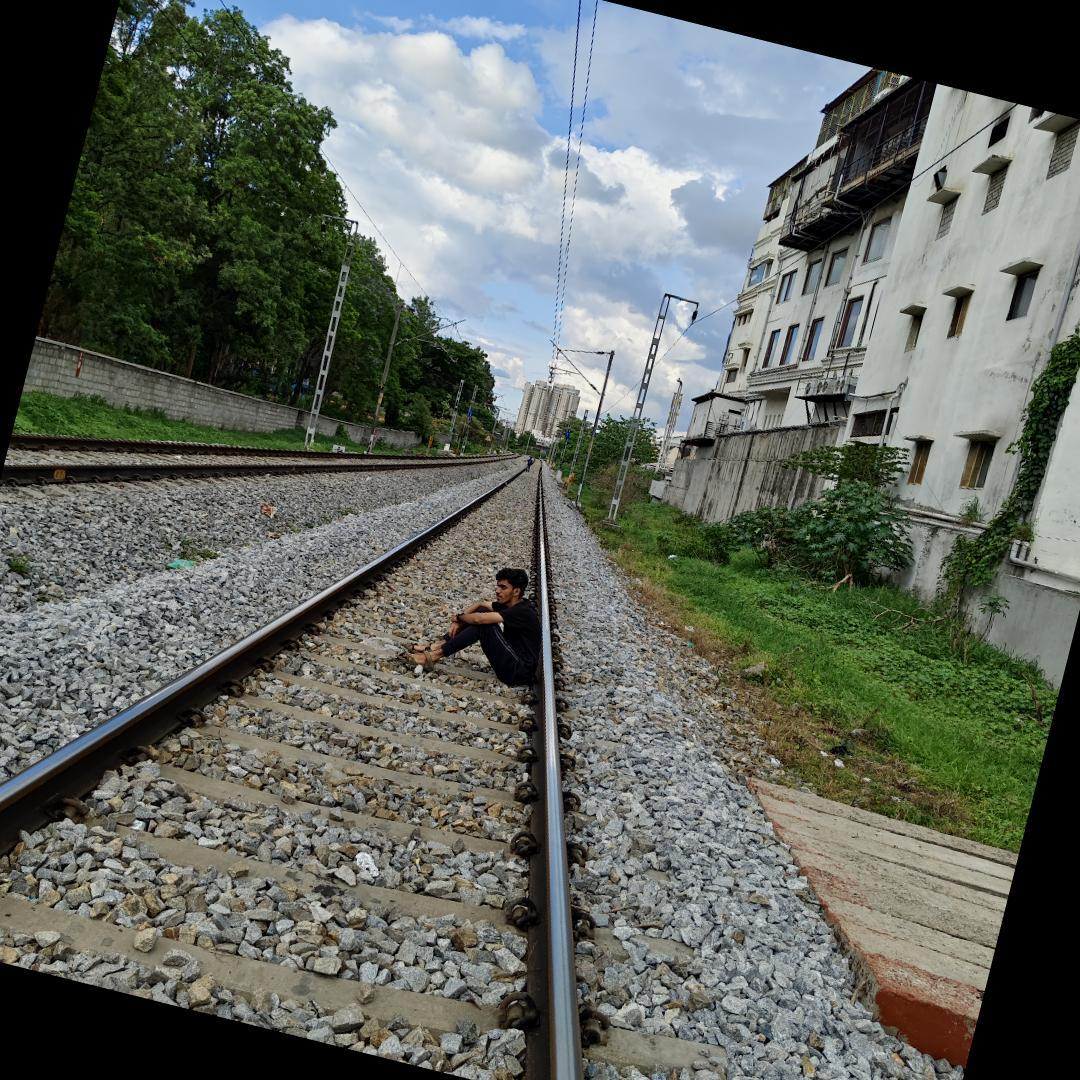sitting: (422, 555, 565, 702)
